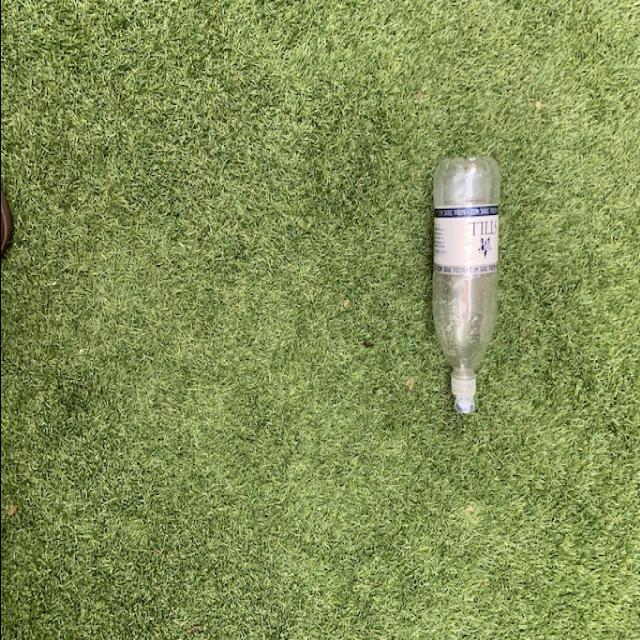PET: (430, 151, 500, 419)
